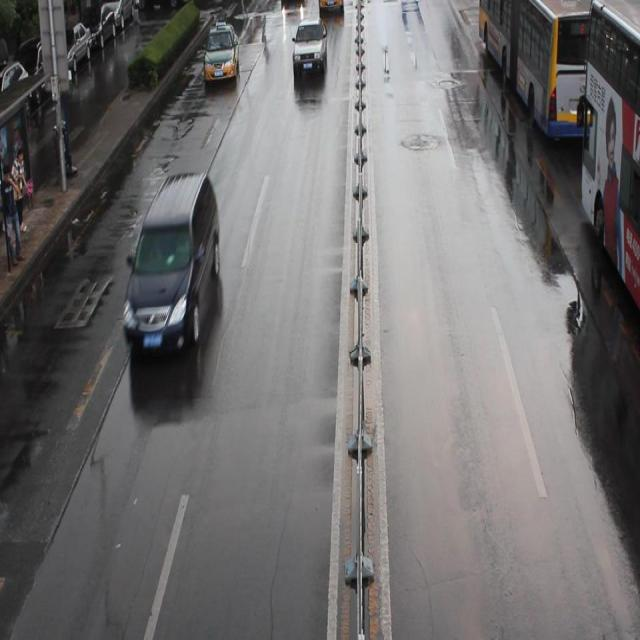car: (202, 20, 238, 81), (292, 20, 328, 75), (318, 2, 344, 15)
truck: (121, 173, 220, 357)
van: (579, 1, 640, 313), (478, 1, 608, 138)
